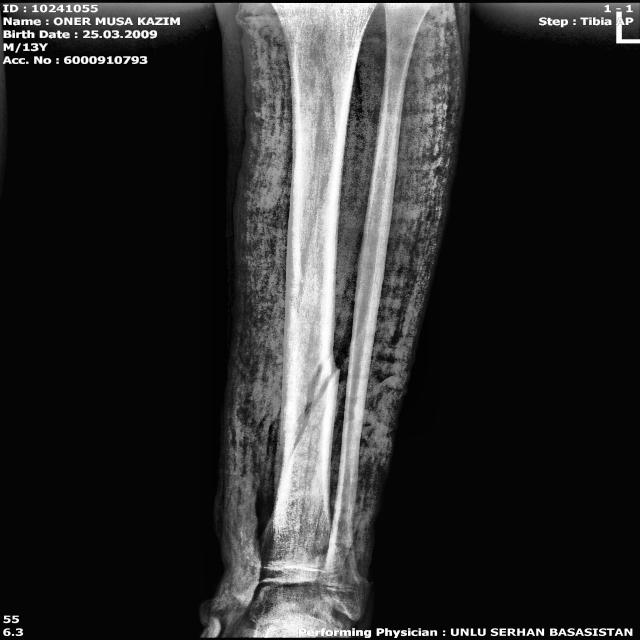Fracture: (266, 327, 349, 488)
